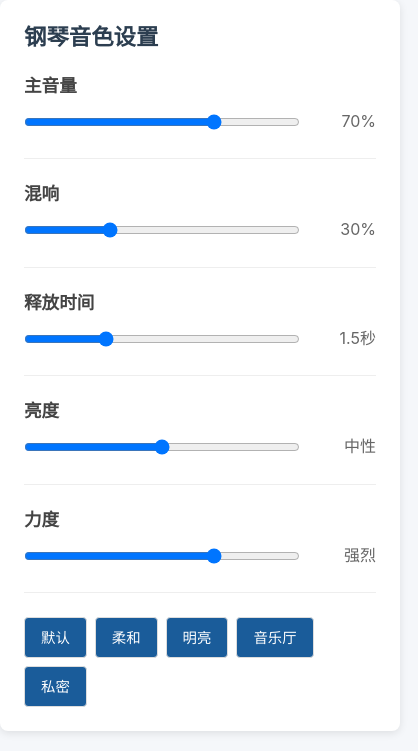
Test: SoundSettings 组件 › 亮度值应显示相应的文本描述
The width and height of the screenshot is (418, 751).
Set the slider next to "中性" to "0.3" at {"x": 110, "y": 447}, box top-left (24, 439), bottom-right (300, 455)
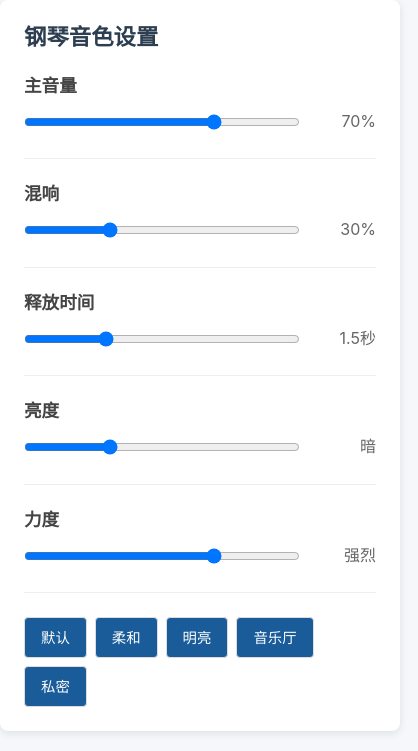
Check: the text "暗" is shown, box top-left (360, 436), bottom-right (376, 456)
Set the slider below "亮度" to "0.5" at {"x": 162, "y": 447}, box top-left (24, 439), bottom-right (300, 455)
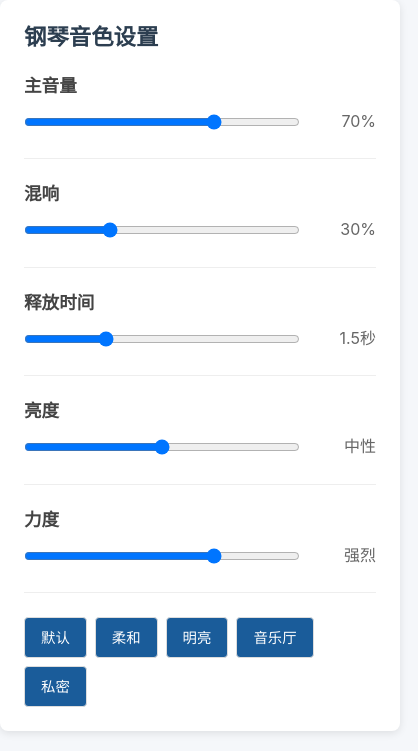
Check: the text "中性" is shown, box top-left (344, 436), bottom-right (376, 456)
Set the slider next to "中性" to "0.7" at {"x": 214, "y": 447}, box top-left (24, 439), bottom-right (300, 455)
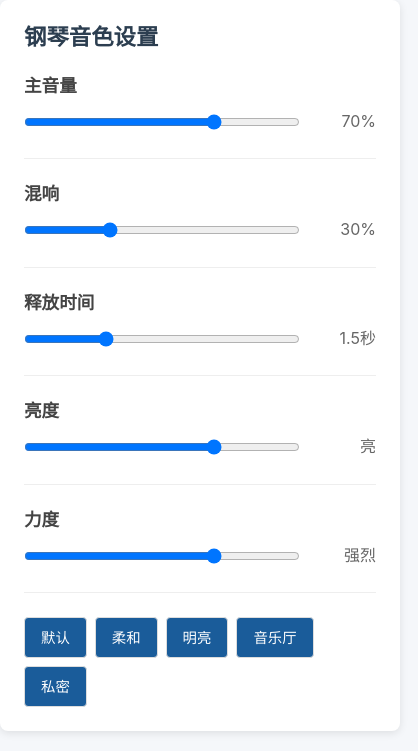
Check: the text "亮" is shown, box top-left (360, 436), bottom-right (376, 456)
